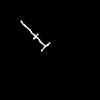double_crochet: (21, 21, 49, 50)
